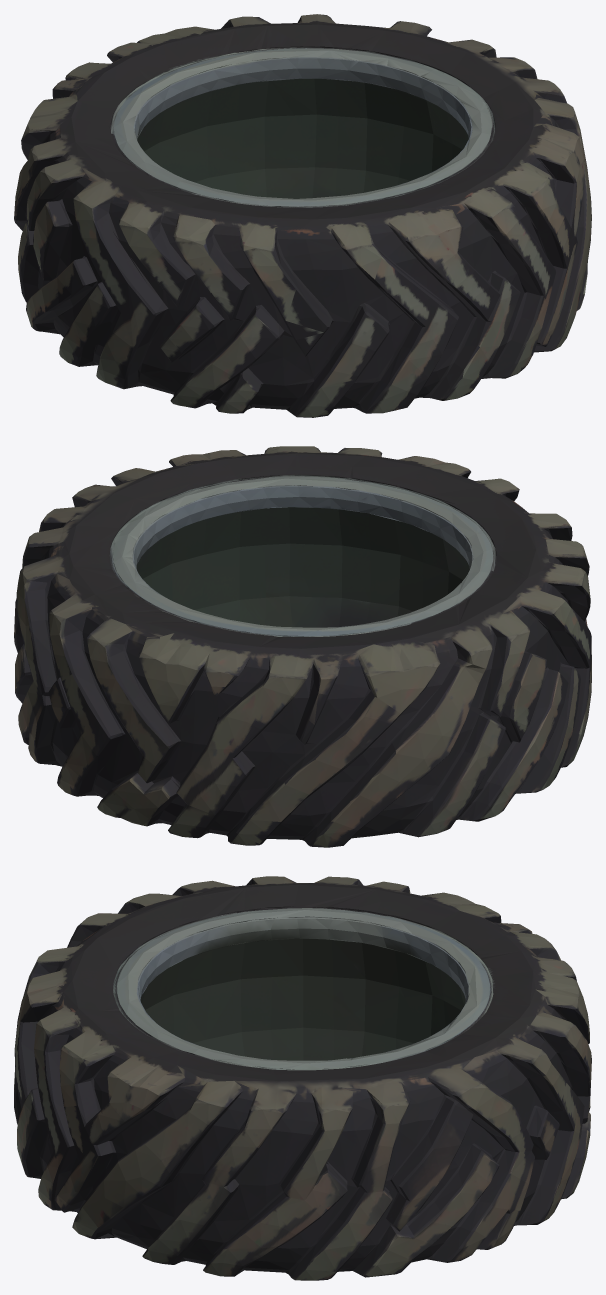
File: tractor_tire.glb
3 views of the same model, one above another, from view 1: azimuth 30°, elevation 25°; view 2: azimuth 150°, elevation 25°; view 3: azimuth 270°, elevation 25° (orthographic).
Visible parts, largest first — view 1: tractor_tire; view 2: tractor_tire; view 3: tractor_tire.
Boxes of the visible parts, left/top/right/bottom form: tractor_tire: left=14, top=14, right=591, bottom=417; tractor_tire: left=14, top=446, right=591, bottom=847; tractor_tire: left=14, top=876, right=591, bottom=1280.
Size of the model in its own units: 1.3 by 0.4687 by 1.3.
Materials: 1 (1 with a texture image).
